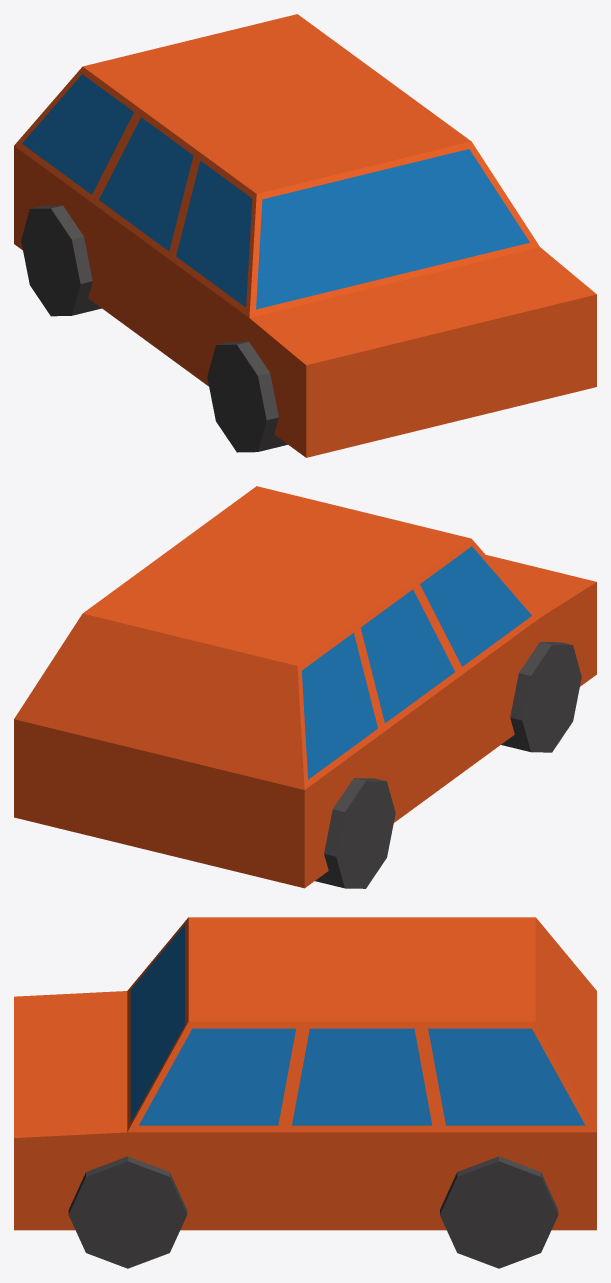
The model's file is turuncu.fbx.
3 renders of one model, top to bottom at view 1: azimuth 30°, elevation 25°; view 2: azimuth 150°, elevation 25°; view 3: azimuth 270°, elevation 25°, orthographic.
Parts seen in each view (by area): view 1: turuncu; view 2: turuncu; view 3: turuncu.
Boxes of the visible parts, <box> form: turuncu: <box>14,14,596,457</box>; turuncu: <box>14,486,596,888</box>; turuncu: <box>14,917,596,1268</box>.
Size of the model in its own units: 125 by 85.13 by 201.
Materials: 1 (1 with a texture image).
